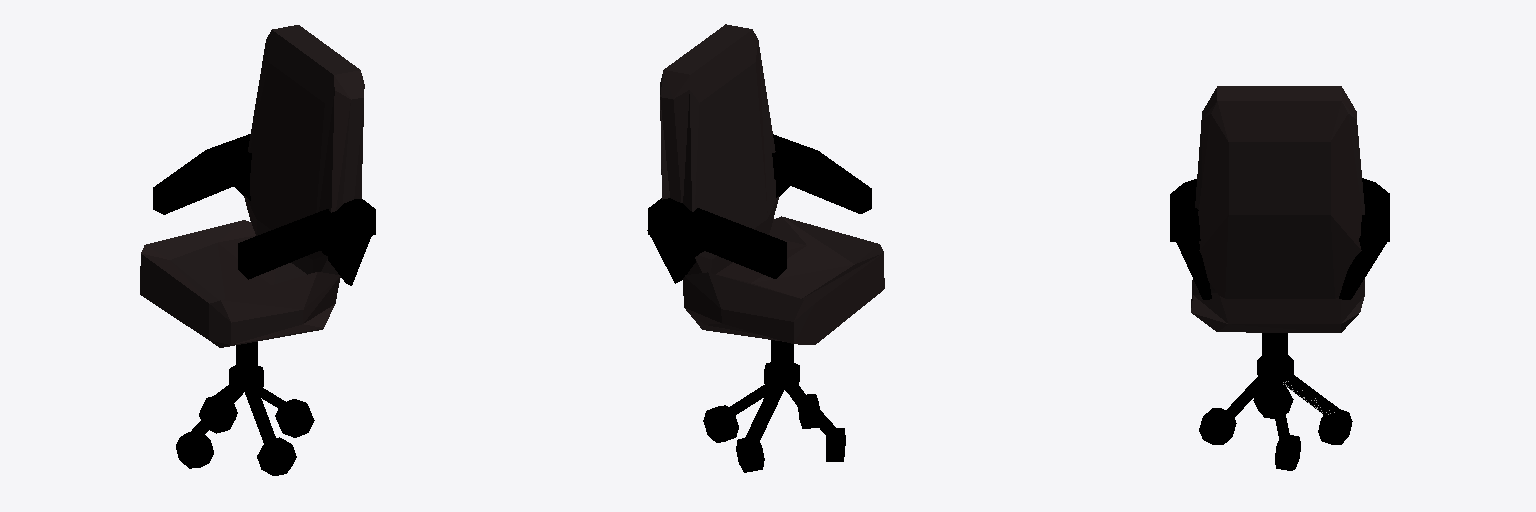
File: deskChair.obj
The picture shows the model from 3 angles: view 1: azimuth 30°, elevation 25°; view 2: azimuth 150°, elevation 25°; view 3: azimuth 270°, elevation 25°; orthographic projection.
Parts seen in each view (by area): view 1: deskChair; view 2: deskChair; view 3: deskChair.
Part boxes in pixels (bbox=[...]): deskChair: bbox=[140, 25, 375, 475]; deskChair: bbox=[647, 24, 884, 472]; deskChair: bbox=[1170, 86, 1389, 470].
Bounding box in the file's own units: 1.36 × 3.05 × 1.58.